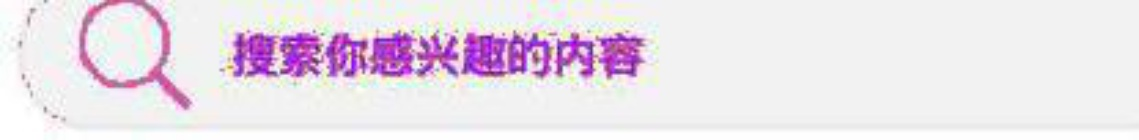EditText: (1, 1, 1138, 139)
